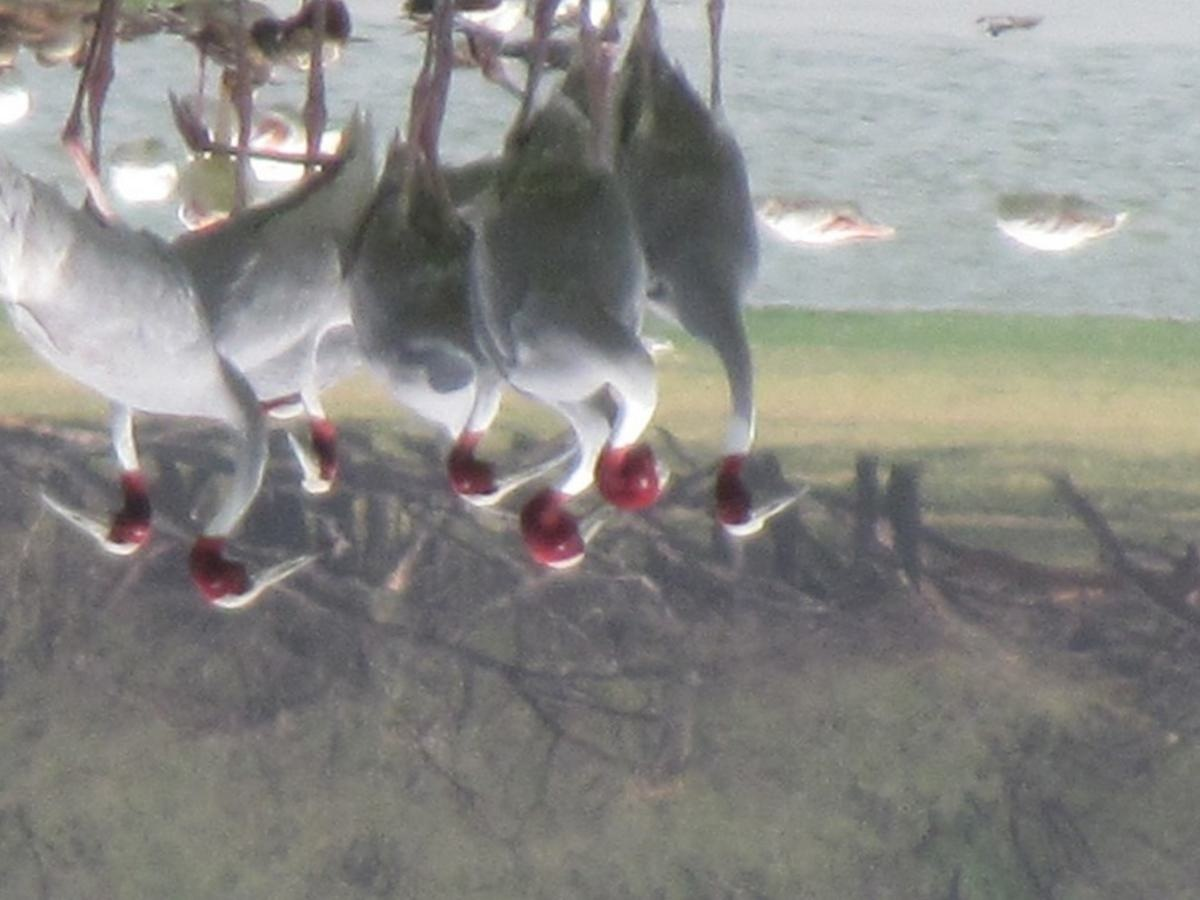crane: (1, 1, 326, 621), (633, 1, 821, 558), (361, 1, 557, 505), (523, 1, 678, 532), (221, 1, 355, 512)
